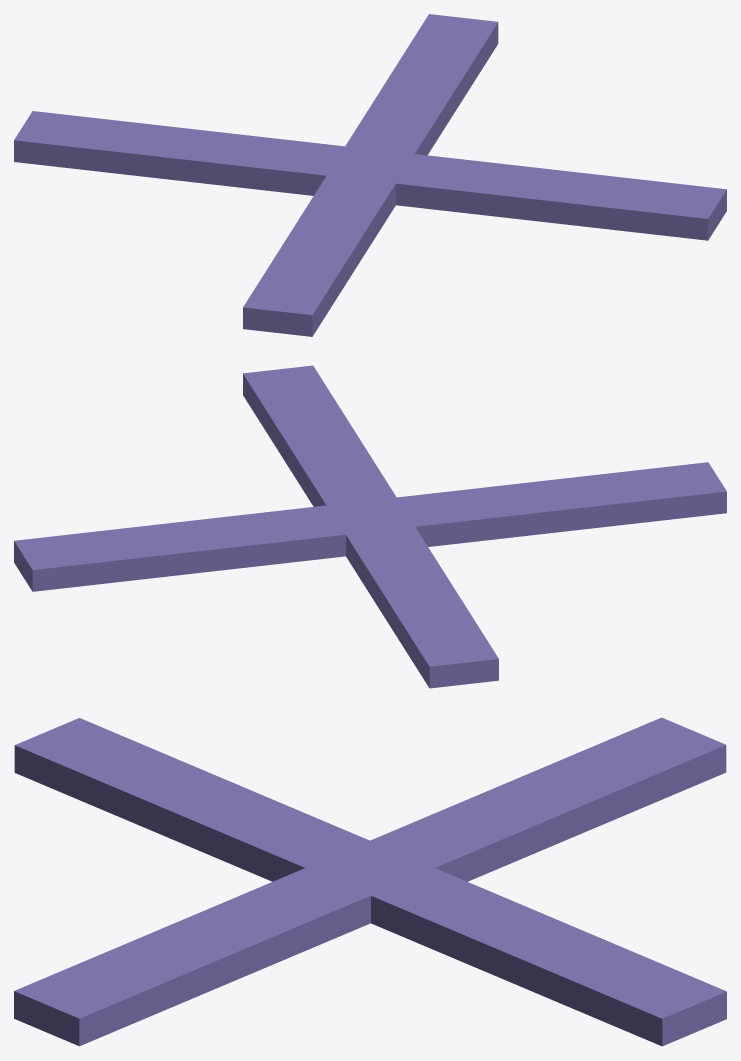
Rendered from cross.dae.
3 views of the same model, one above another, from view 1: azimuth 30°, elevation 25°; view 2: azimuth 150°, elevation 25°; view 3: azimuth 270°, elevation 25° (orthographic). The views are drawn at different scales.
Parts seen in each view (by area): view 1: Cross; view 2: Cross; view 3: Cross.
Part boxes in pixels (box(x1,y1,x2,y2)): Cross: box(14, 14, 726, 336); Cross: box(14, 365, 726, 688); Cross: box(14, 717, 726, 1046).
Bounding box in the file's own units: 0.0234 × 0.0234 × 0.001.
